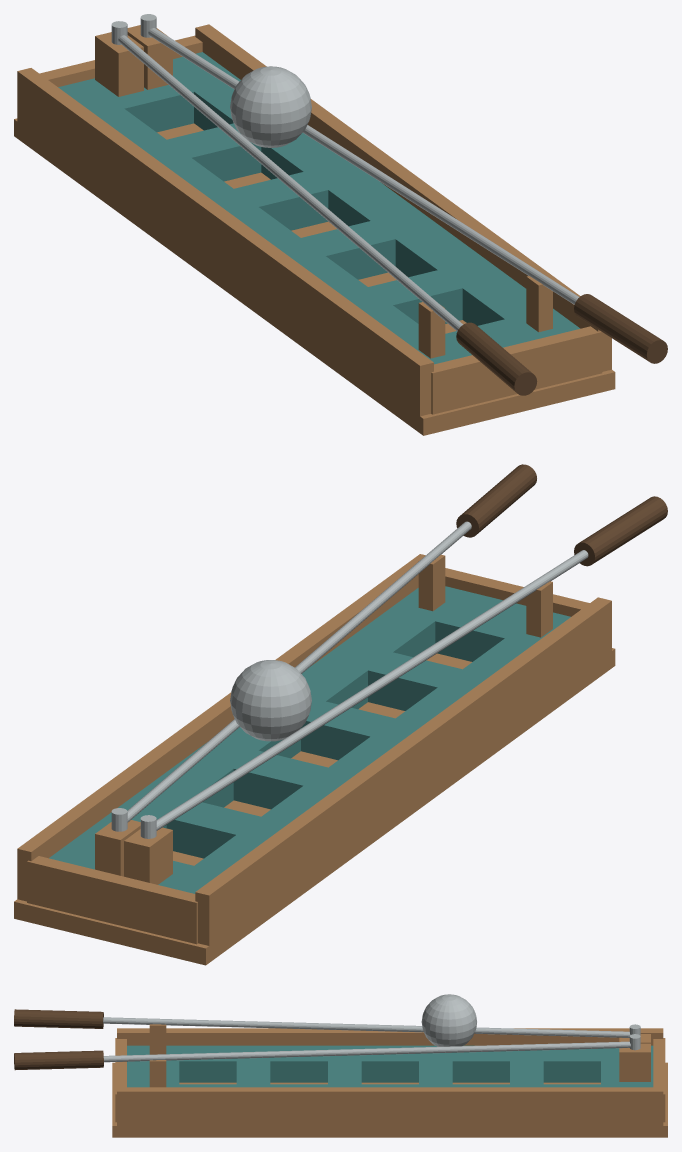
3 renders of one model, top to bottom at view 1: azimuth 30°, elevation 25°; view 2: azimuth 150°, elevation 25°; view 3: azimuth 270°, elevation 25°, orthographic. The views are drawn at different scales.
Parts seen in each view (by area): view 1: WholeFiveApertureLandingBoard, WholeLongRaisedSideRim_0, WholeGroundFootCollectionBase, WholeLongRaisedSideRim_1, WholeRaisedEndRim_0, WholeFixedBallAcrossTwoRods, WholeLongControlRod_0, WholeLongControlRod_1, WholeFrontHandGrip_1, WholeFrontHandGrip_0, WholeRearPivotPlinth_0, WholeFrontRodSaddle_0 (+3 smaller); view 2: WholeFiveApertureLandingBoard, WholeLongRaisedSideRim_0, WholeGroundFootCollectionBase, WholeLongRaisedSideRim_1, WholeRaisedEndRim_1, WholeFixedBallAcrossTwoRods, WholeLongControlRod_0, WholeLongControlRod_1, WholeFrontHandGrip_0, WholeRearPivotPlinth_0, WholeFrontHandGrip_1, WholeRaisedEndRim_0 (+3 smaller); view 3: WholeLongRaisedSideRim_1, WholeFiveApertureLandingBoard, WholeGroundFootCollectionBase, WholeLongRaisedSideRim_0, WholeLongControlRod_1, WholeLongControlRod_0, WholeFixedBallAcrossTwoRods, WholeFrontHandGrip_0, WholeFrontHandGrip_1, WholeRearPivotPlinth_1, WholeRaisedEndRim_1, WholeRaisedEndRim_0 (+2 smaller).
Part boxes in pixels (bbox=[...]): WholeFiveApertureLandingBoard: bbox=[58, 52, 579, 364]; WholeLongRaisedSideRim_0: bbox=[17, 68, 433, 417]; WholeGroundFootCollectionBase: bbox=[14, 118, 615, 435]; WholeLongRaisedSideRim_1: bbox=[195, 24, 611, 371]; WholeRaisedEndRim_0: bbox=[431, 326, 602, 414]; WholeFixedBallAcrossTwoRods: bbox=[230, 66, 311, 147]; WholeLongControlRod_0: bbox=[118, 35, 463, 331]; WholeLongControlRod_1: bbox=[148, 28, 579, 304]; WholeFrontHandGrip_1: bbox=[574, 294, 667, 363]; WholeFrontHandGrip_0: bbox=[456, 322, 537, 395]; WholeRearPivotPlinth_0: bbox=[95, 32, 143, 96]; WholeFrontRodSaddle_0: bbox=[418, 302, 445, 358]; WholeFiveApertureLandingBoard: bbox=[49, 586, 570, 893]; WholeLongRaisedSideRim_0: bbox=[195, 597, 611, 946]; WholeGroundFootCollectionBase: bbox=[14, 648, 615, 965]; WholeLongRaisedSideRim_1: bbox=[17, 554, 425, 901]; WholeRaisedEndRim_1: bbox=[27, 856, 197, 944]; WholeFixedBallAcrossTwoRods: bbox=[230, 660, 311, 741]; WholeLongControlRod_0: bbox=[156, 550, 588, 830]; WholeLongControlRod_1: bbox=[127, 521, 471, 822]; WholeFrontHandGrip_0: bbox=[574, 496, 667, 566]; WholeRearPivotPlinth_0: bbox=[124, 827, 172, 884]; WholeFrontHandGrip_1: bbox=[456, 464, 536, 537]; WholeRaisedEndRim_0: bbox=[445, 568, 589, 616]; WholeLongRaisedSideRim_1: bbox=[117, 1087, 663, 1127]; WholeFiveApertureLandingBoard: bbox=[127, 1045, 653, 1087]; WholeGroundFootCollectionBase: bbox=[112, 1062, 667, 1137]; WholeLongRaisedSideRim_0: bbox=[117, 1028, 663, 1045]; WholeLongControlRod_1: bbox=[103, 1041, 630, 1062]; WholeLongControlRod_0: bbox=[103, 1017, 630, 1037]; WholeFixedBallAcrossTwoRods: bbox=[421, 994, 476, 1046]; WholeFrontHandGrip_0: bbox=[14, 1009, 103, 1028]; WholeFrontHandGrip_1: bbox=[14, 1050, 103, 1070]; WholeRearPivotPlinth_1: bbox=[619, 1043, 650, 1081]; WholeRaisedEndRim_1: bbox=[653, 1038, 665, 1122]; WholeRaisedEndRim_0: bbox=[115, 1038, 126, 1122].
Size of the model in its own units: 0.33 by 0.264 by 1.44.
